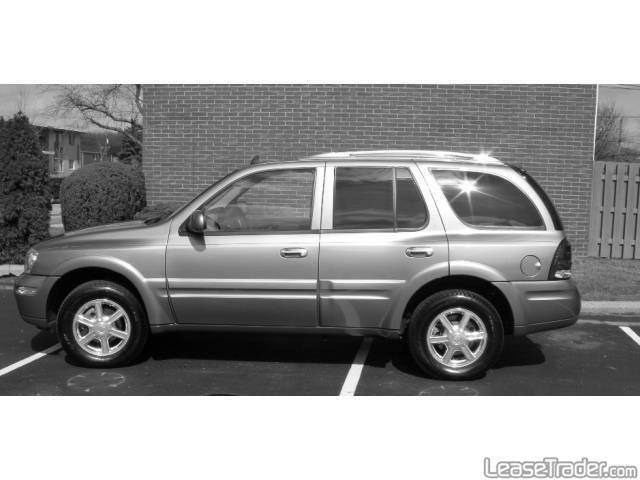car: (15, 149, 582, 385)
